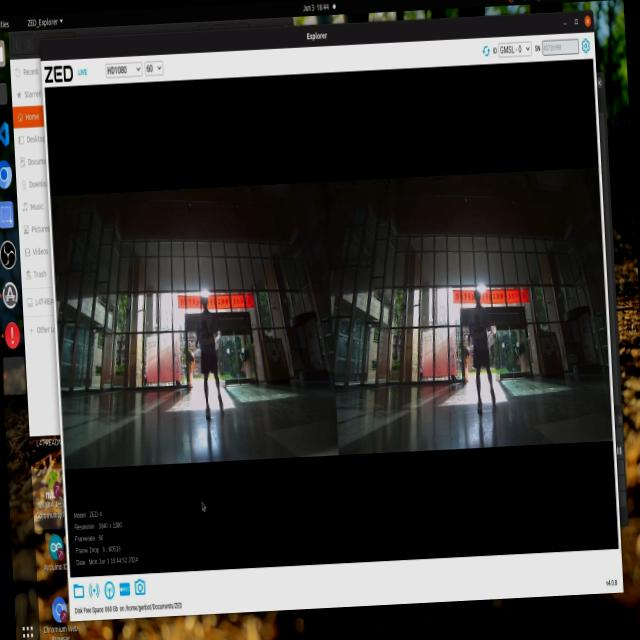blue: (197, 319, 210, 342), (468, 316, 478, 334)
